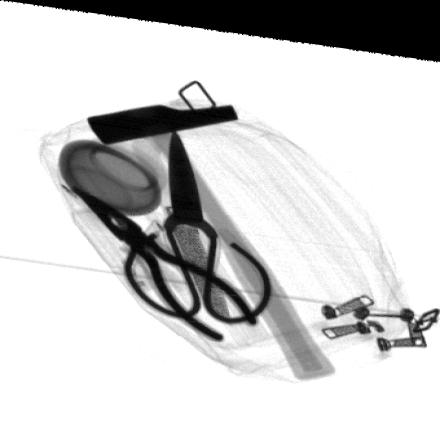Hammer: (86, 96, 340, 374)
Knife: (129, 128, 234, 320)
Pliers: (69, 182, 261, 337)
Scissors: (122, 117, 274, 320)
